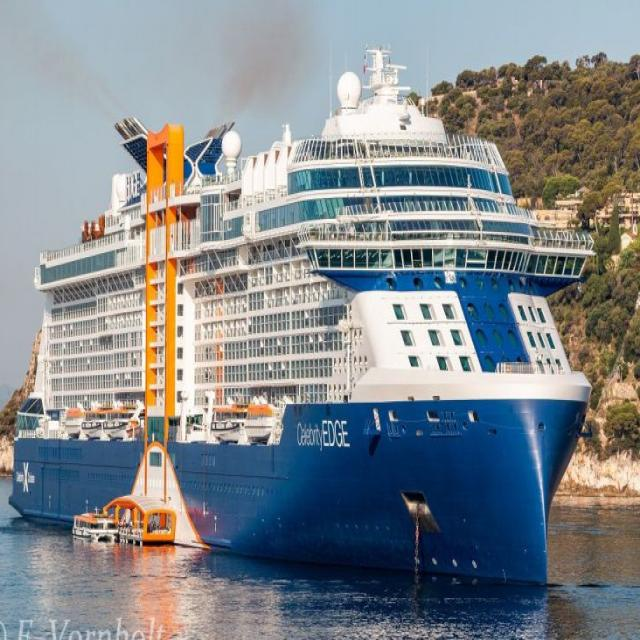cruises: (5, 47, 599, 594)
